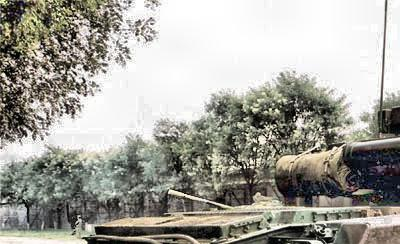tanks: (82, 106, 400, 244)
